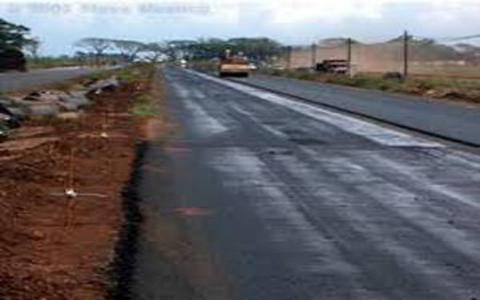Proper road: (355, 91, 456, 144)
